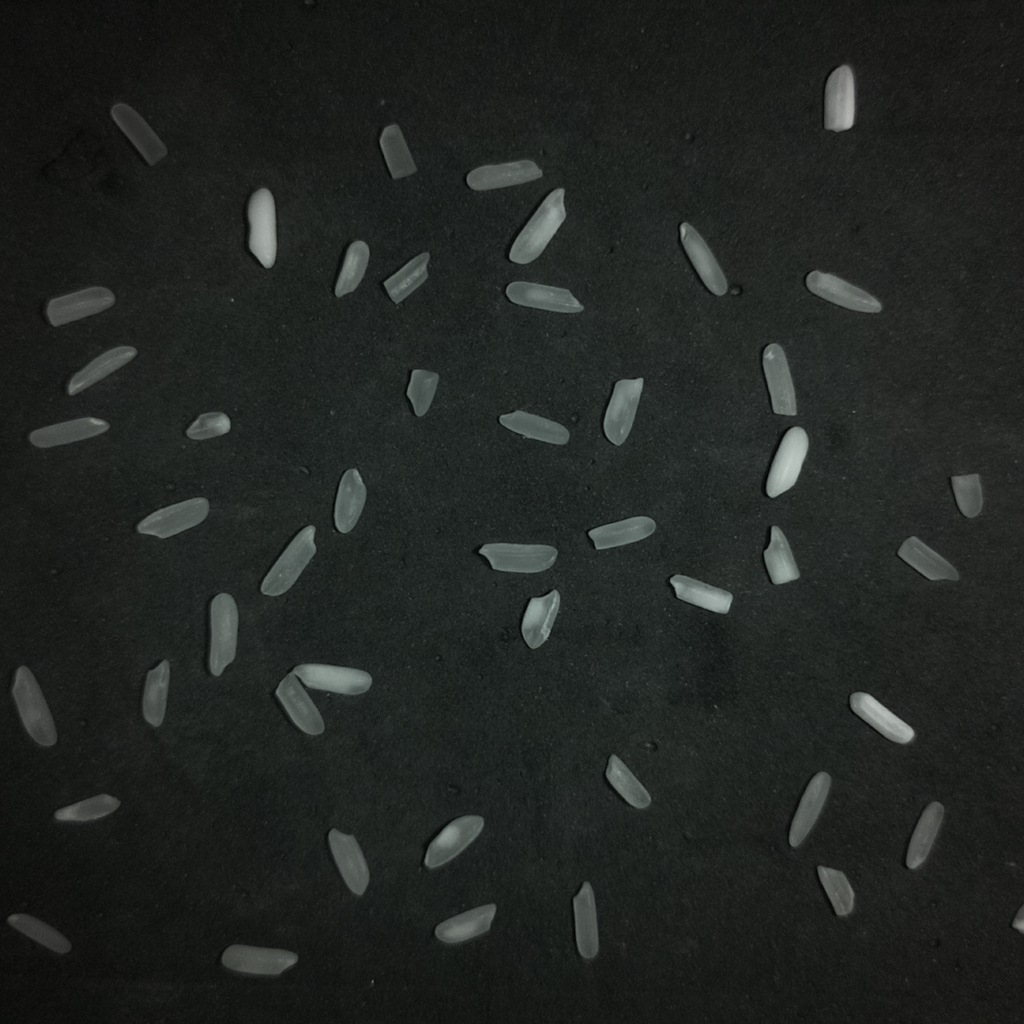broken: (424, 815, 483, 868), (136, 497, 209, 539), (275, 673, 323, 735), (897, 536, 959, 580), (603, 377, 643, 445), (45, 286, 114, 325), (328, 828, 368, 895), (7, 913, 71, 954), (605, 755, 650, 809), (499, 410, 569, 444), (434, 904, 495, 943), (479, 542, 557, 572), (385, 252, 428, 304), (588, 516, 655, 549), (379, 124, 417, 179), (334, 468, 366, 533), (334, 240, 369, 297), (54, 794, 120, 823), (817, 865, 854, 916), (142, 660, 170, 727), (406, 369, 438, 416), (950, 474, 982, 517), (186, 411, 230, 440)
chalky: (509, 188, 564, 264), (849, 691, 913, 743), (765, 427, 808, 497), (292, 663, 371, 695), (669, 574, 732, 613), (248, 187, 276, 268), (521, 589, 559, 648), (823, 64, 855, 132), (763, 525, 799, 584)
whole: (261, 526, 315, 596), (11, 666, 57, 747), (679, 222, 726, 296), (66, 346, 136, 395), (111, 103, 166, 165), (788, 771, 831, 848), (805, 270, 881, 312), (905, 801, 944, 869), (505, 281, 583, 313), (762, 343, 796, 415), (221, 944, 297, 976), (208, 593, 237, 676), (29, 417, 108, 447), (466, 159, 541, 190), (573, 881, 598, 959)
